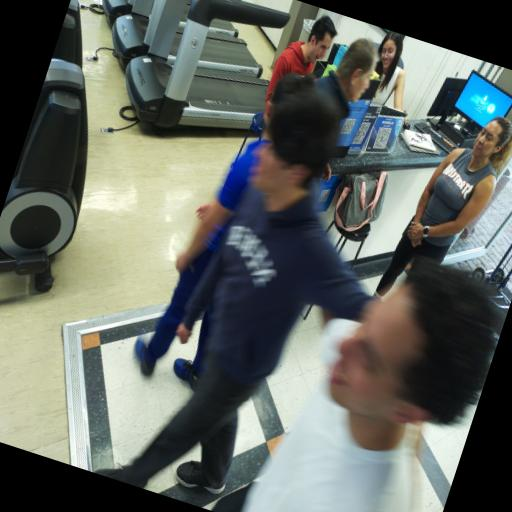person: (98, 90, 368, 493), (213, 263, 495, 511), (134, 74, 312, 375), (374, 117, 511, 298), (265, 16, 335, 103), (315, 38, 376, 119), (370, 31, 404, 110)
